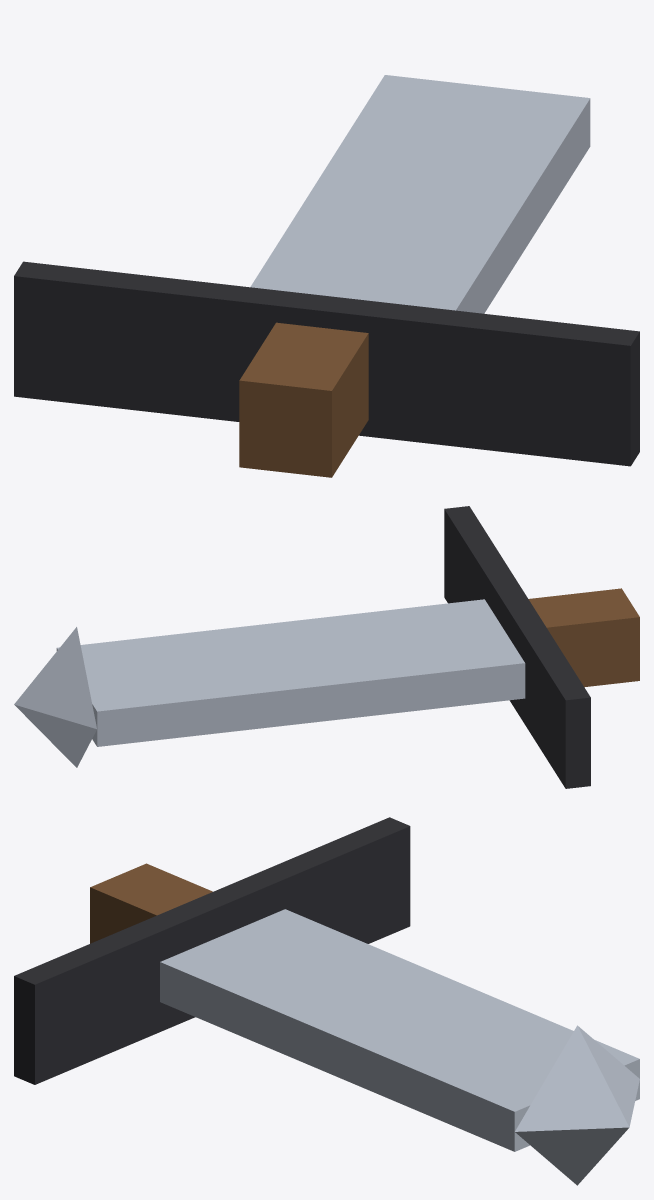
Rendered from dagger.glb.
The picture shows the model from 3 angles, top to bottom: view 1: azimuth 30°, elevation 25°; view 2: azimuth 150°, elevation 25°; view 3: azimuth 270°, elevation 25°; orthographic projection. The views are drawn at different scales.
Parts seen in each view (by area): view 1: dagger; view 2: dagger; view 3: dagger.
Part boxes in pixels (x1=…): dagger: x1=14, y1=75, x2=639, y2=477; dagger: x1=14, y1=506, x2=639, y2=788; dagger: x1=14, y1=817, x2=639, y2=1185.
Size of the model in its own units: 0.5303 by 0.15 by 0.5303.
